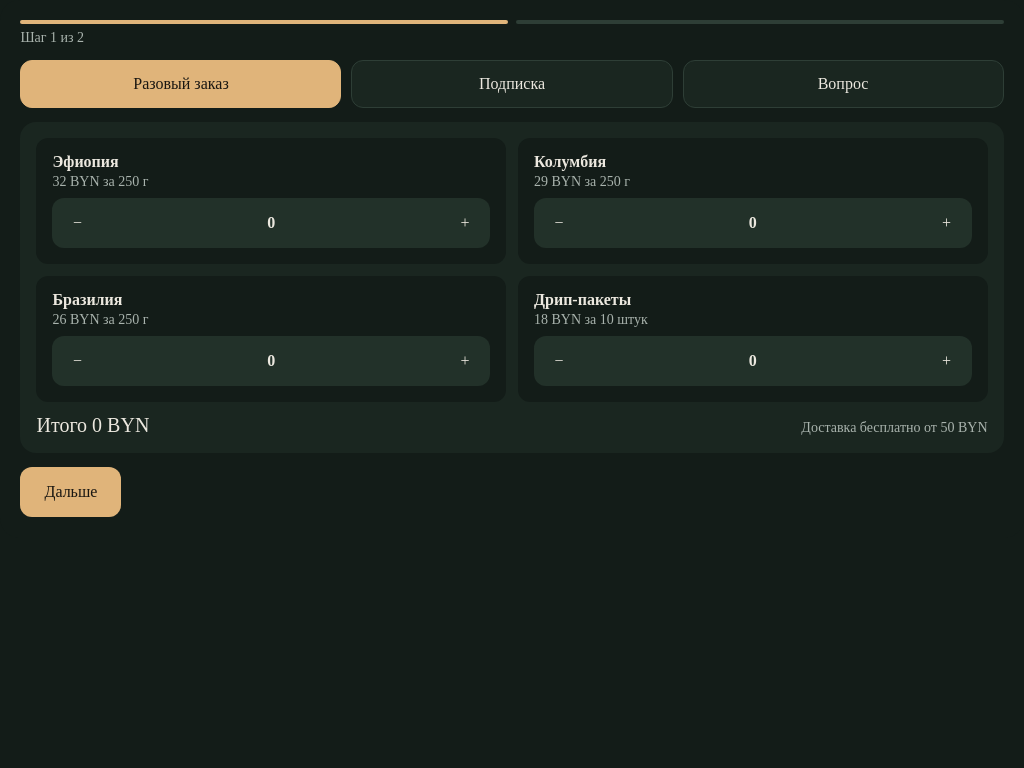
Test: отправка › не отправляет неверный номер и показывает подсказку
This screenshot has width=1024, height=768.
Click the button named "Добавить Колумбия Уила": coordinates (946, 224) [924,202,968,246]
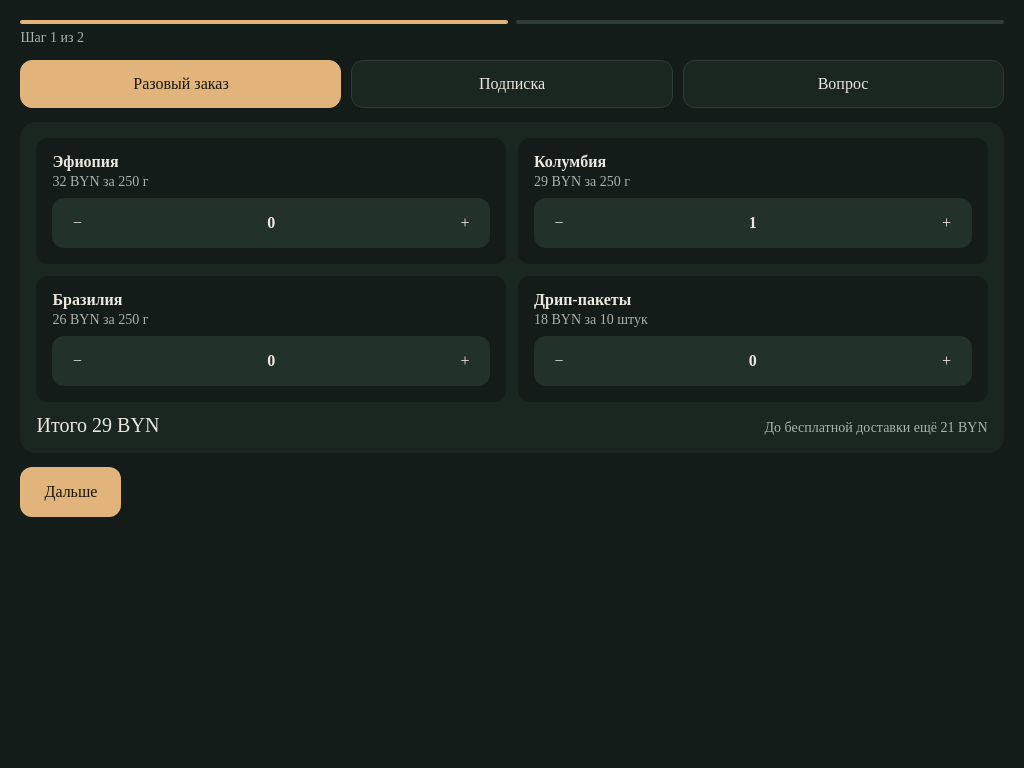
Click the button "Дальше": coordinates (71, 492) [20,468,121,518]
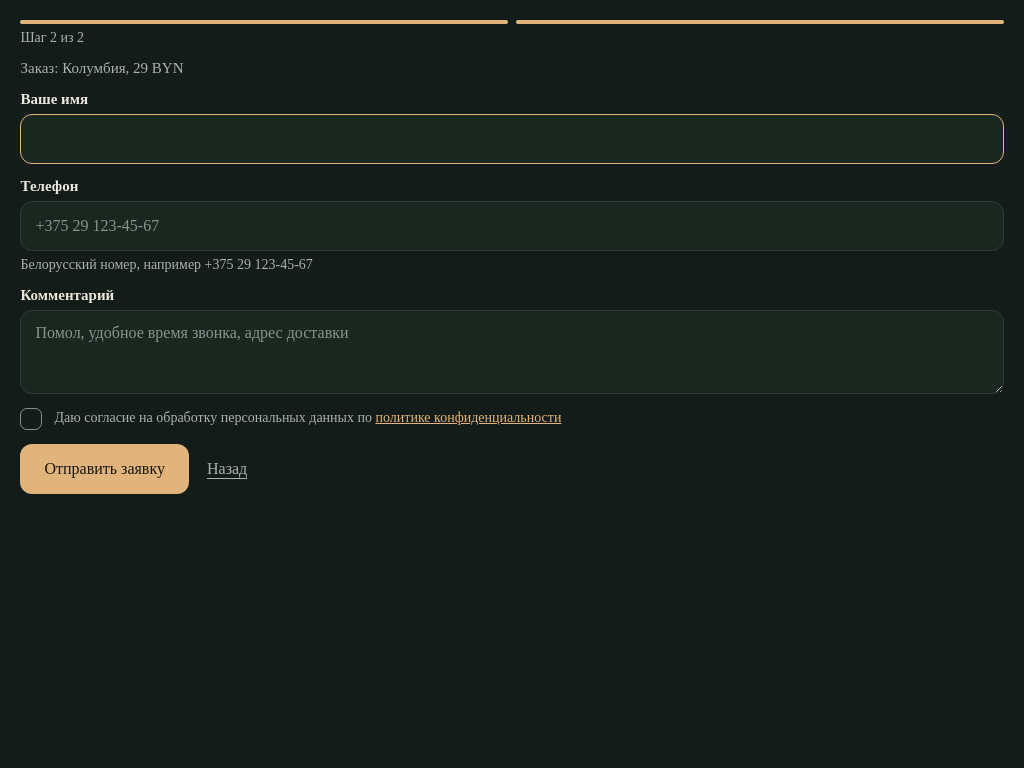
In the field labelled "Телефон": coordinates (512, 226) [20,202,1004,252], type "+7 999 123-45-67"
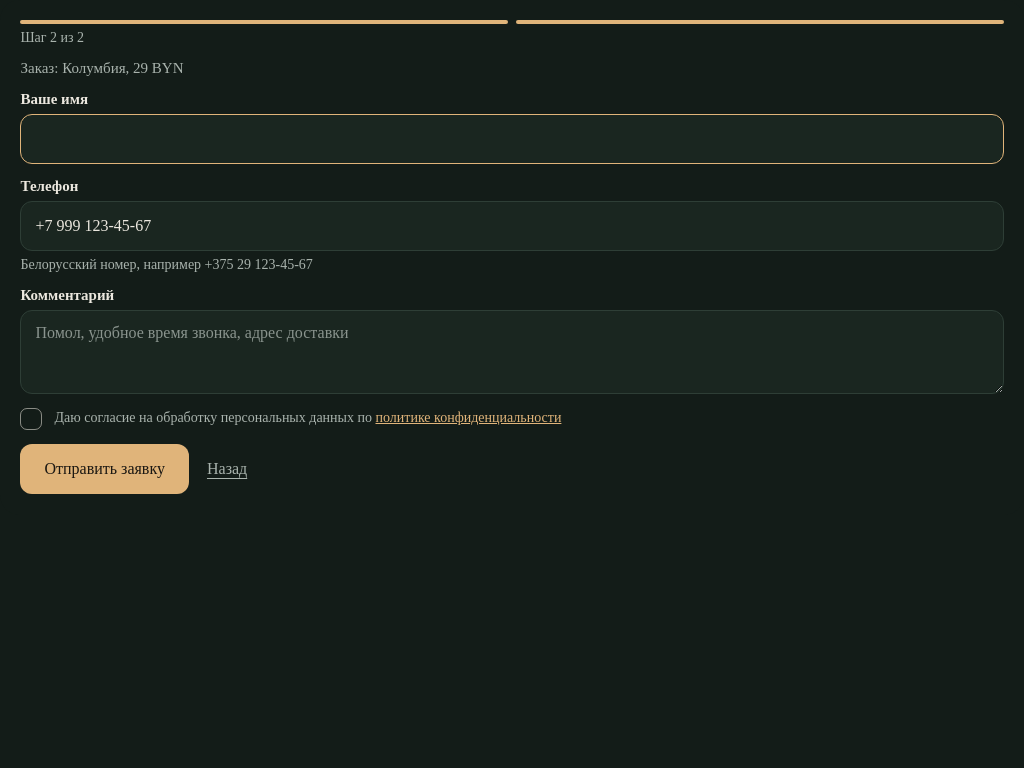
Click the button "Отправить заявку": coordinates (105, 470) [20,444,189,494]
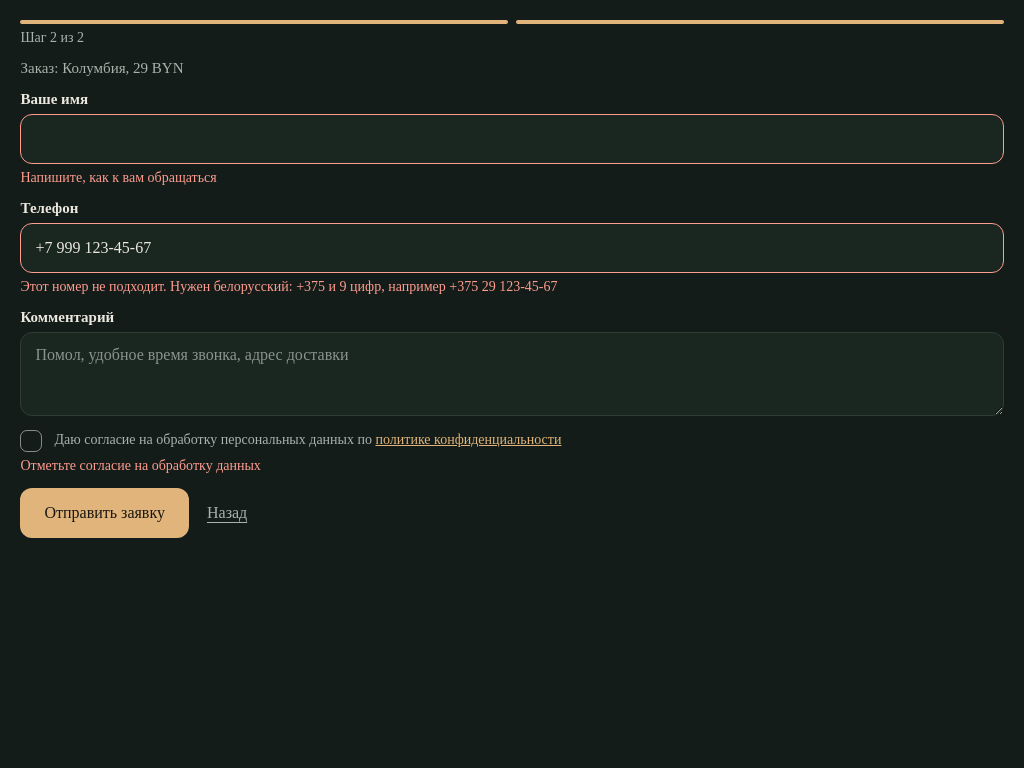
Expected: the text "Напишите, как к вам обращаться" is shown, [20,170,217,186]
Expected: the text "Этот номер не подходит" is shown, [20,280,558,294]
